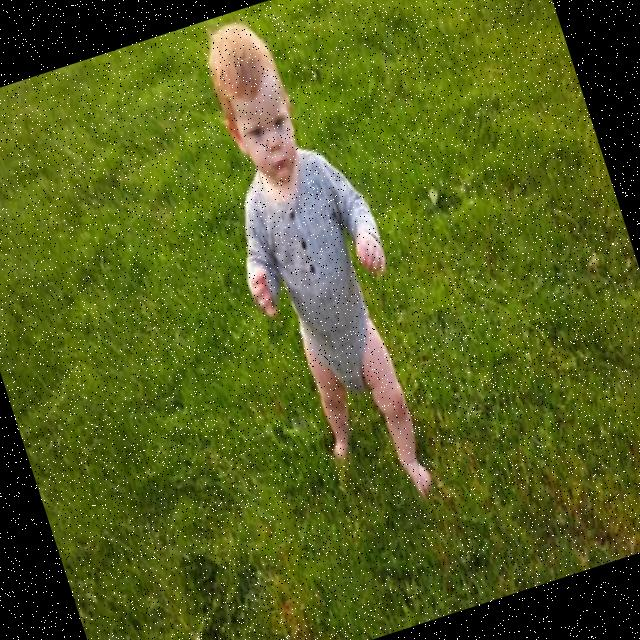Person: (169, 0, 462, 529)
